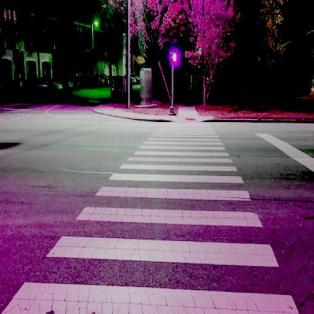Paso de Cebra: (68, 183, 270, 230), (123, 148, 238, 164)
